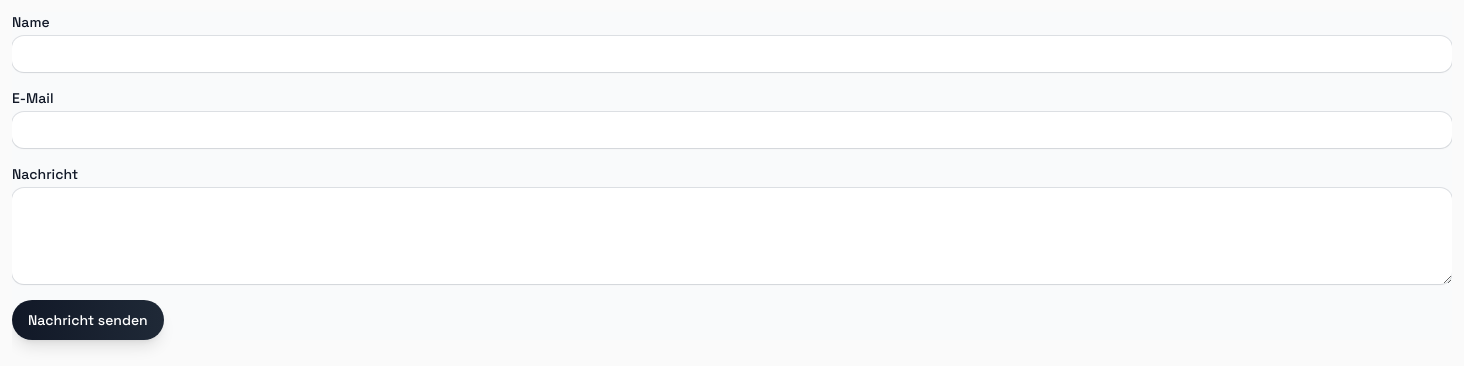
ContactForm › envia com dados válidos
This screenshot has width=1464, height=366.
Type "Maria" into the field labelled "Name".
click(732, 54); type("Maria")  # box [12,36,1452,72]
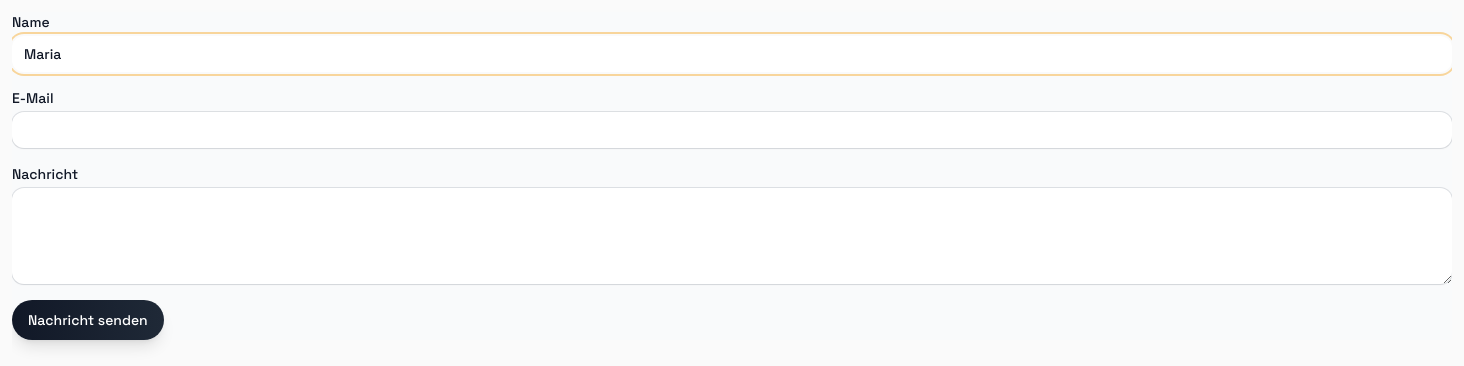
Type "maria@test.com" into the field labelled "E-Mail".
click(732, 130); type("maria@test.com")  # box [12,112,1452,148]
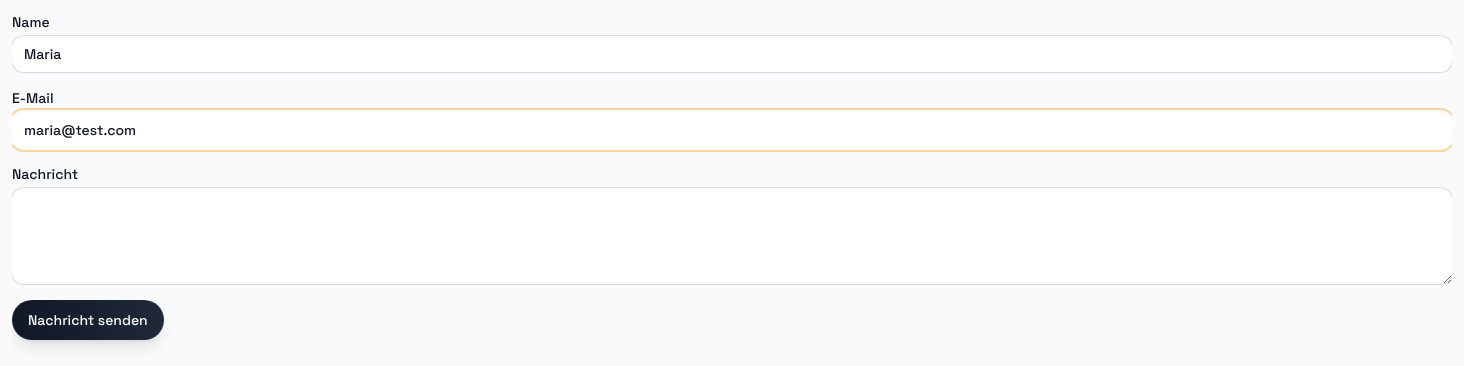
Type "Gültige Testnachricht" into the text box labelled "Nachricht".
click(732, 236); type("Gültige Testnachricht")  # box [12,188,1452,284]
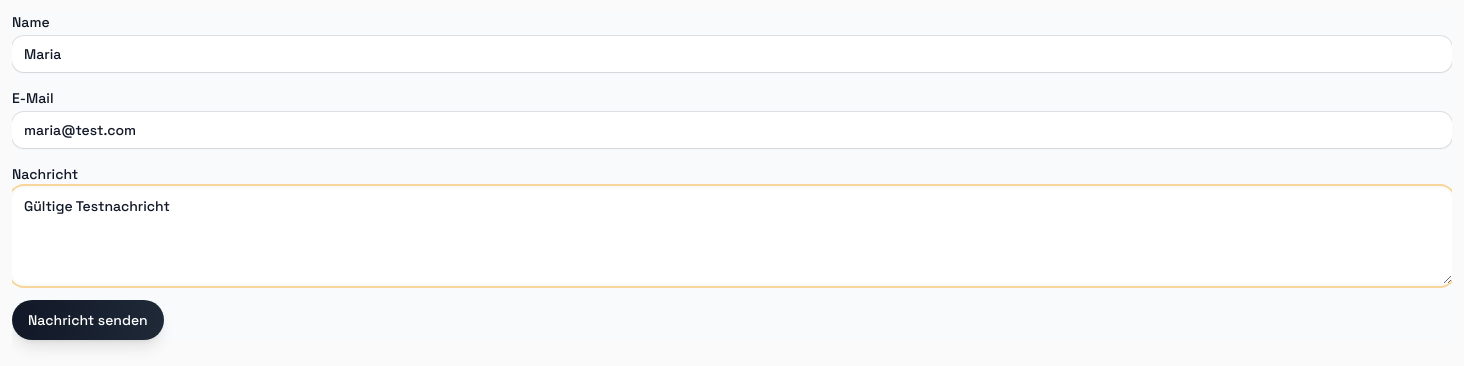
Click the button "Nachricht senden".
click(88, 320)  # box [12,300,164,340]
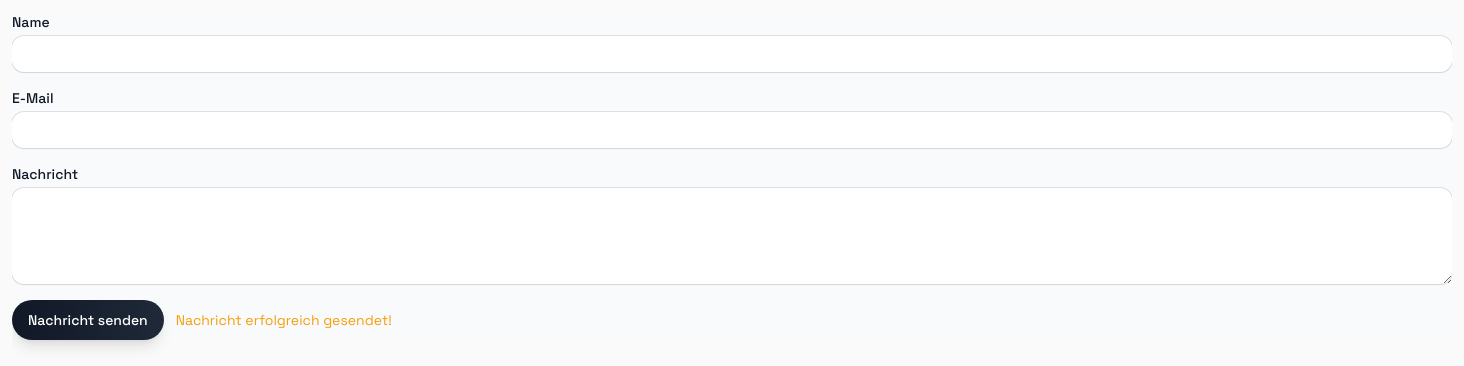
expect the text "Nachricht erfolgreich gesendet!" is shown: met, box [176,310,392,330]
